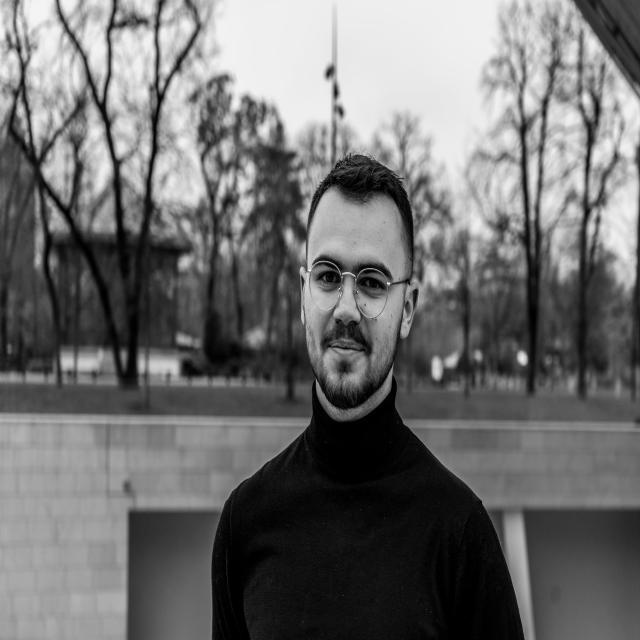adult: (208, 143, 526, 640)
